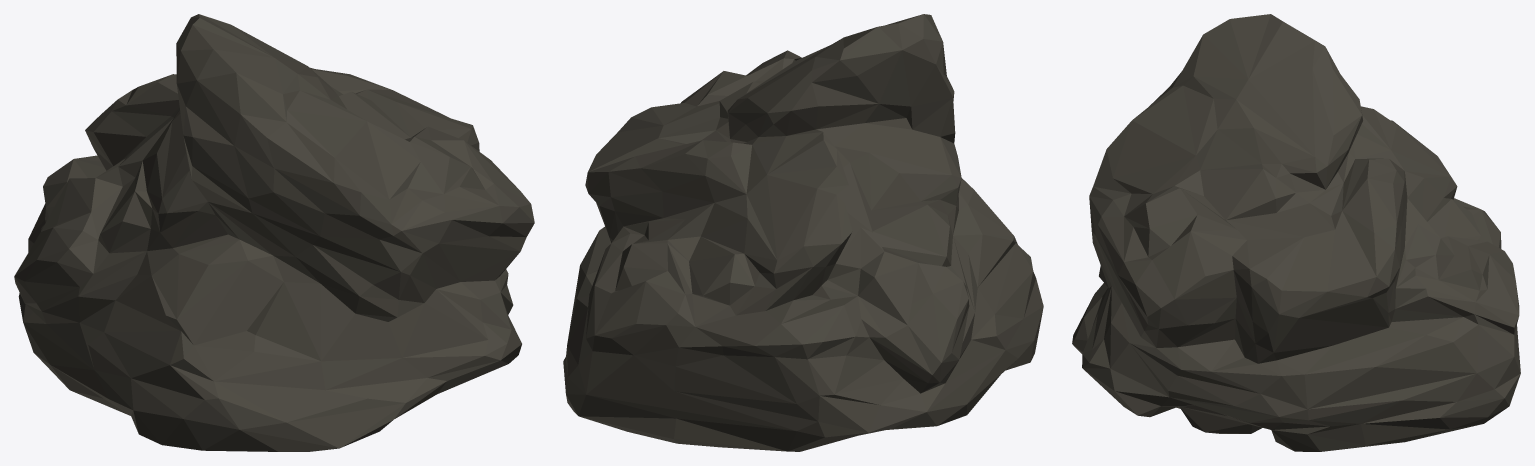
The model's file is synty-rock-cluster-large-05.gltf.
3 views of the same model, side by side, from view 1: azimuth 30°, elevation 25°; view 2: azimuth 150°, elevation 25°; view 3: azimuth 270°, elevation 25° (orthographic). The views are drawn at different scales.
Parts seen in each view (by area): view 1: SM_Rock_Cluster_Large_05; view 2: SM_Rock_Cluster_Large_05; view 3: SM_Rock_Cluster_Large_05.
Boxes of the visible parts, x1,y1,x2,y2 form: SM_Rock_Cluster_Large_05: (14,14,534,451); SM_Rock_Cluster_Large_05: (563,14,1043,451); SM_Rock_Cluster_Large_05: (1072,14,1520,451).
Bounding box in the file's own units: 16.54 × 15.06 × 17.88.
Materials: 1 (1 with a texture image).
